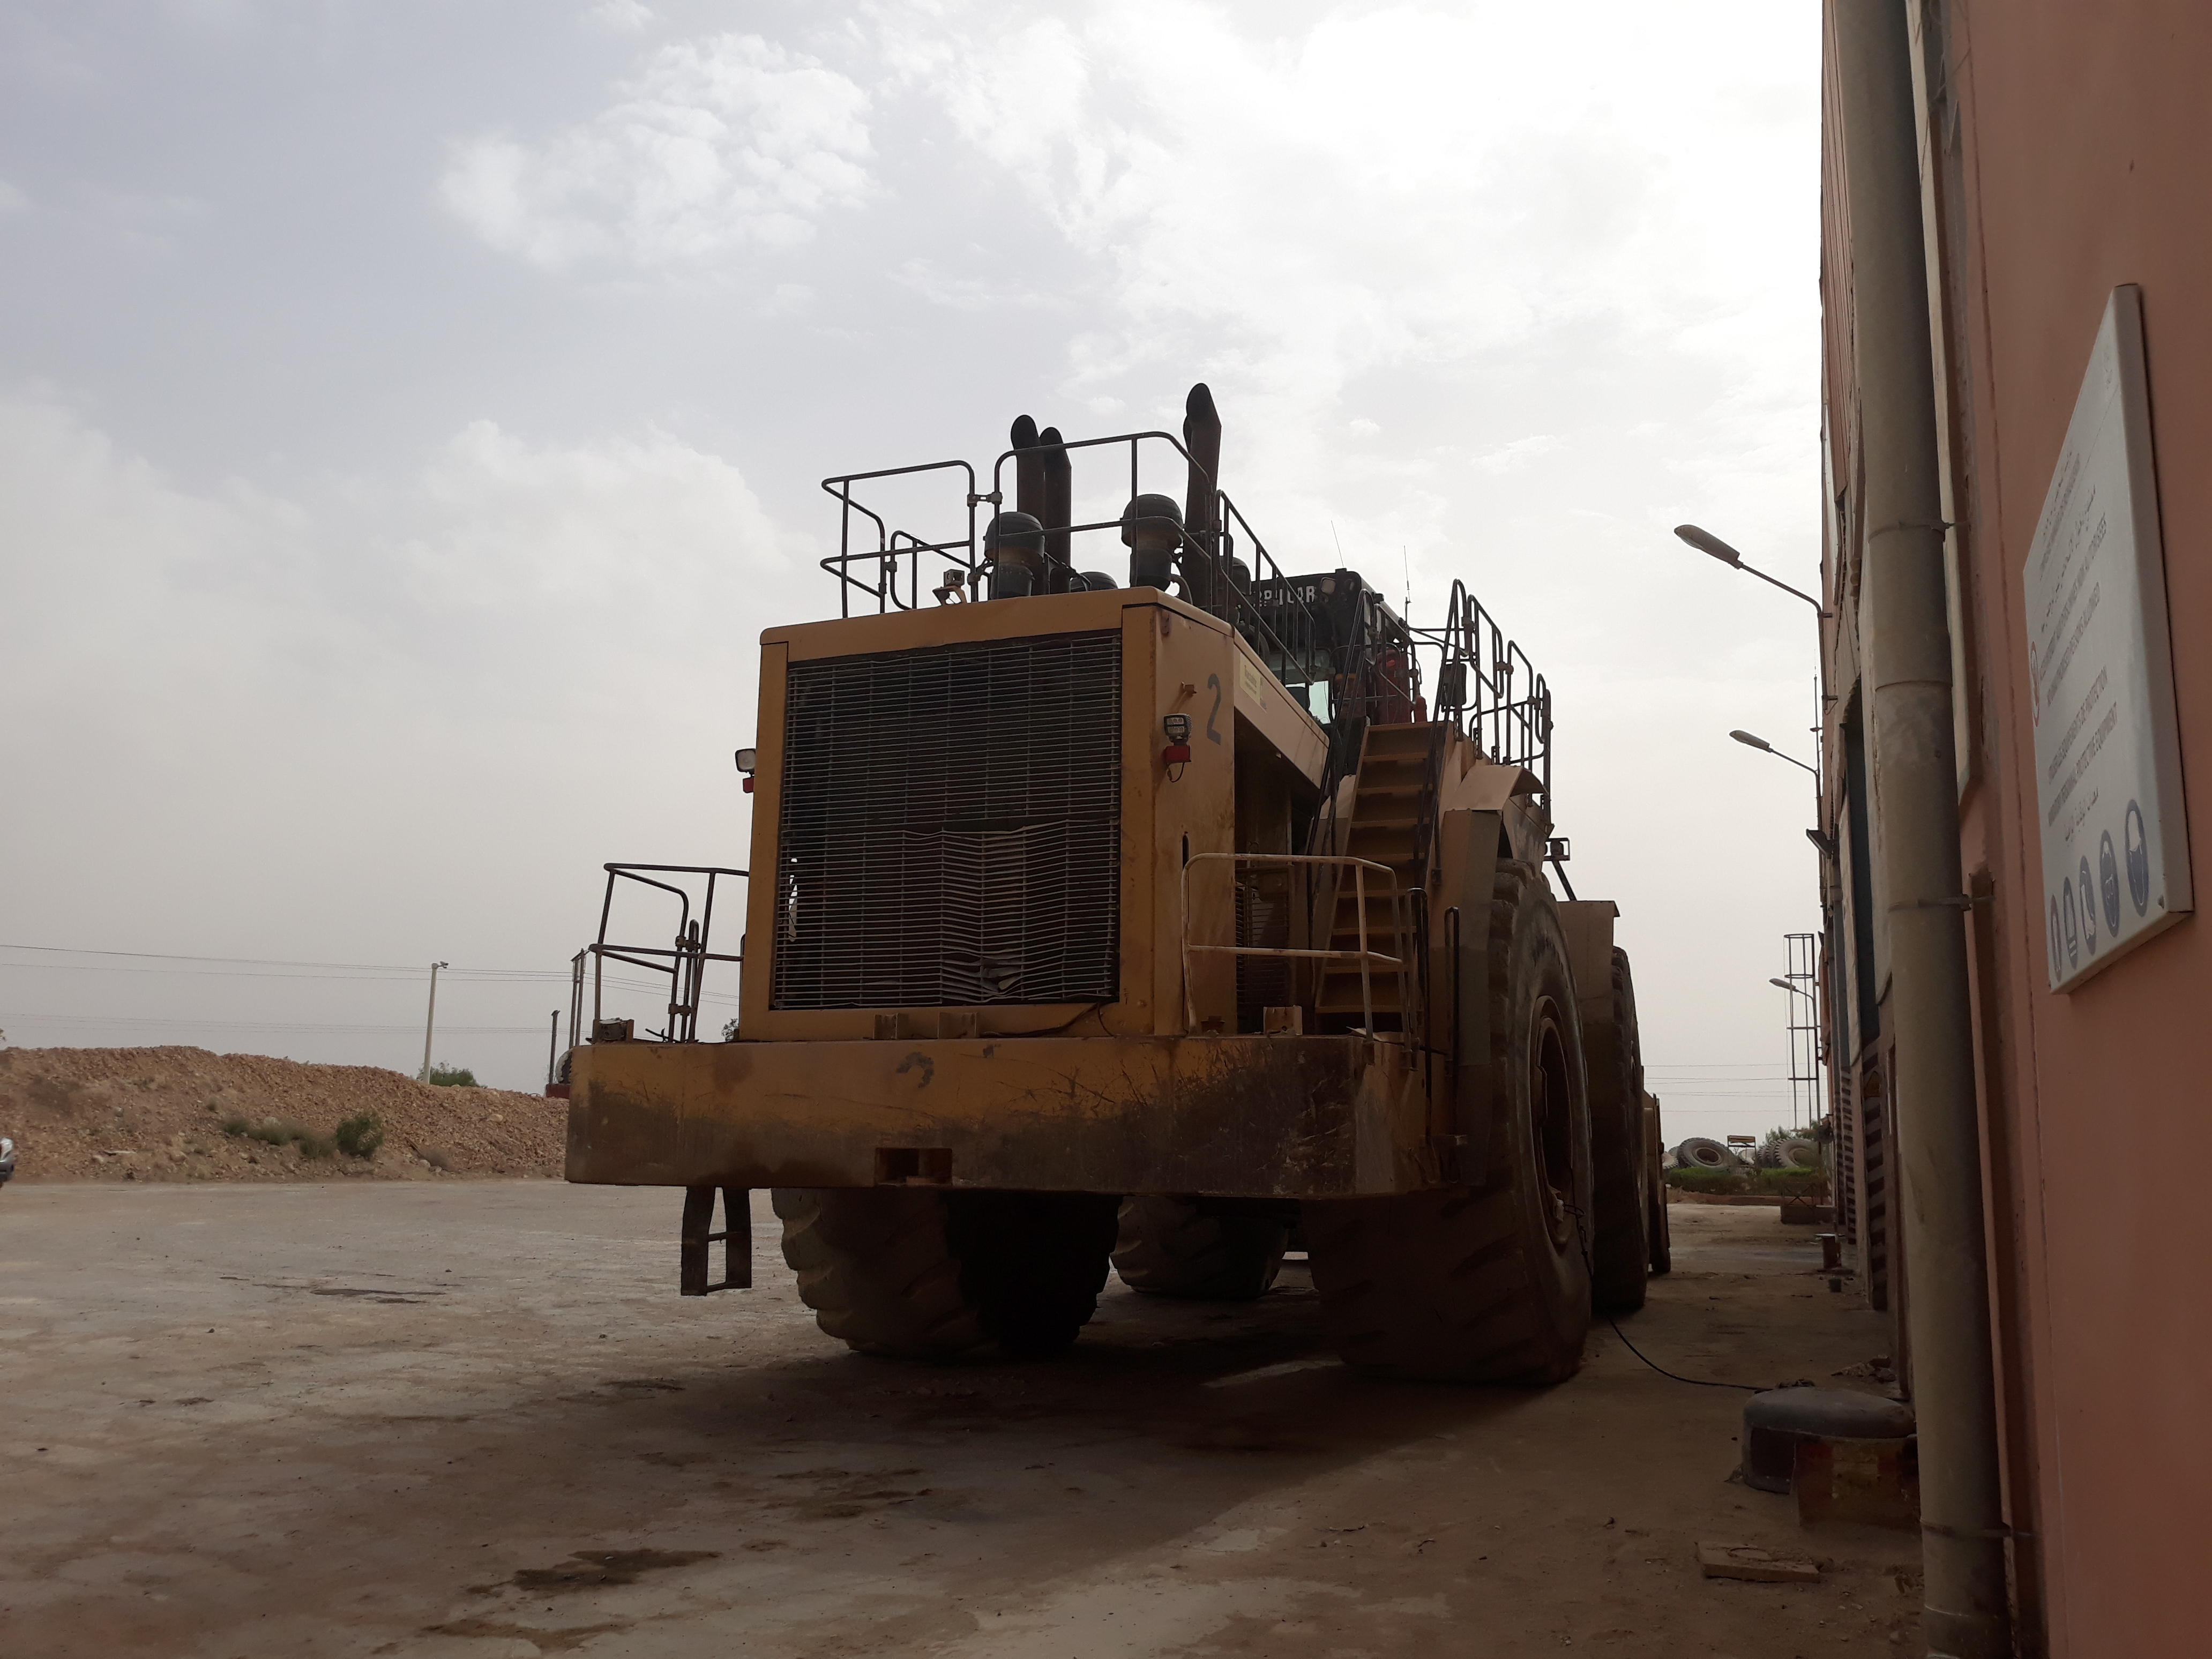chargeuse: (533, 357, 1707, 1429)
